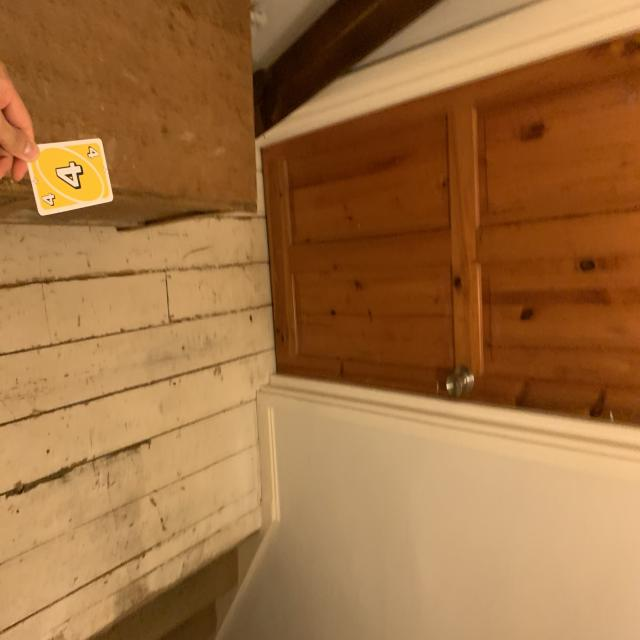lyellow-4: (82, 140, 102, 162)
